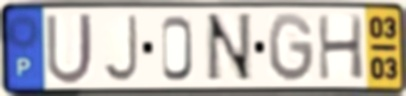0: (160, 14, 195, 83)
G: (266, 10, 317, 85)
H: (315, 12, 366, 83)
J: (100, 13, 140, 84)
N: (203, 11, 256, 85)
U: (43, 11, 95, 87)
